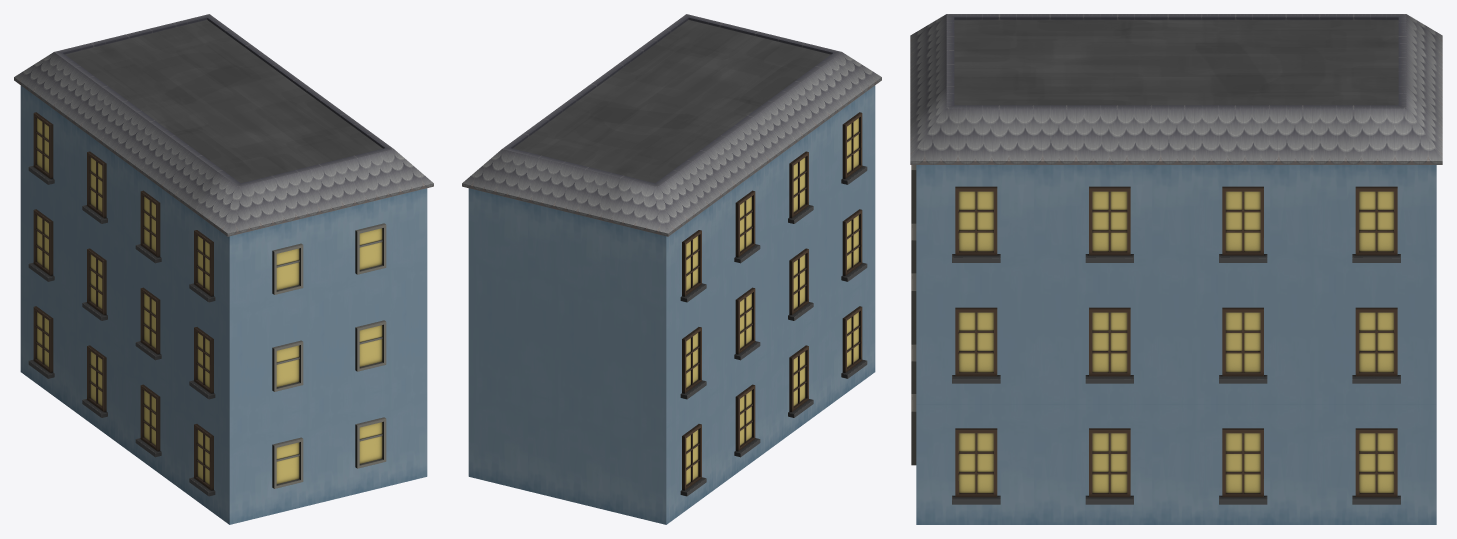
File: NBR_building_d.FBX
3 renders of one model, left to right at view 1: azimuth 30°, elevation 25°; view 2: azimuth 150°, elevation 25°; view 3: azimuth 270°, elevation 25°, orthographic. The views are drawn at different scales.
Parts seen in each view (by area): view 1: building_d; view 2: building_d; view 3: building_d.
Boxes of the visible parts, bbox=[...] form: building_d: bbox=[14, 14, 433, 524]; building_d: bbox=[462, 14, 881, 524]; building_d: bbox=[910, 14, 1442, 524].
Size of the model in its own units: 770 by 1132 by 1354.
4 materials, 4 textured.
